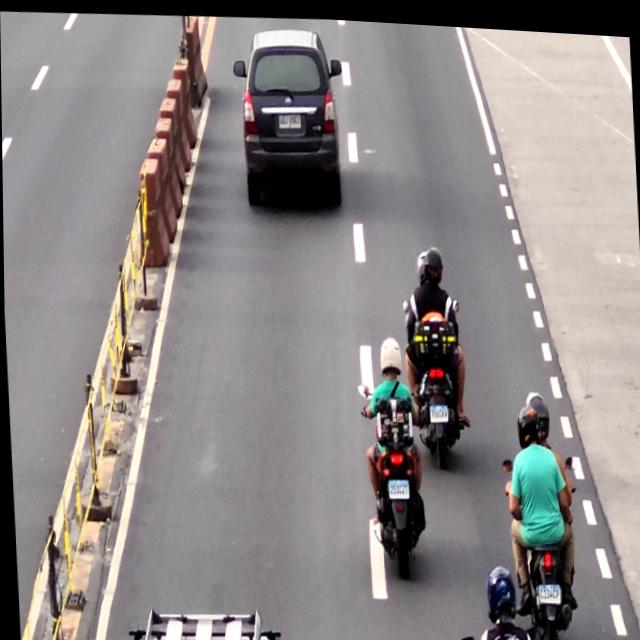Car: (237, 21, 340, 210)
License-Plate: (384, 470, 409, 494), (534, 575, 559, 598), (277, 106, 300, 124), (427, 399, 447, 419)
Motorcycle: (404, 238, 465, 468), (507, 390, 566, 622), (364, 333, 420, 568), (467, 556, 533, 640)
